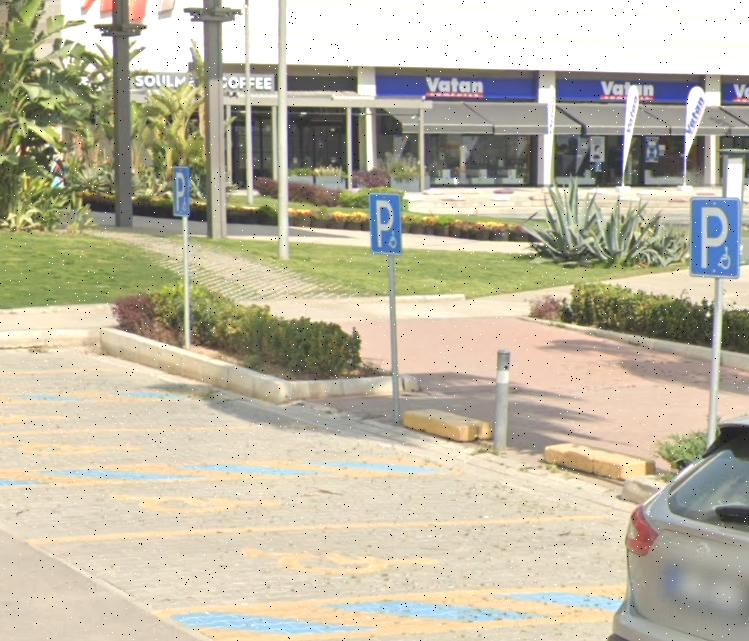disabledpark: (693, 196, 743, 276), (369, 194, 399, 254), (171, 167, 193, 218)
